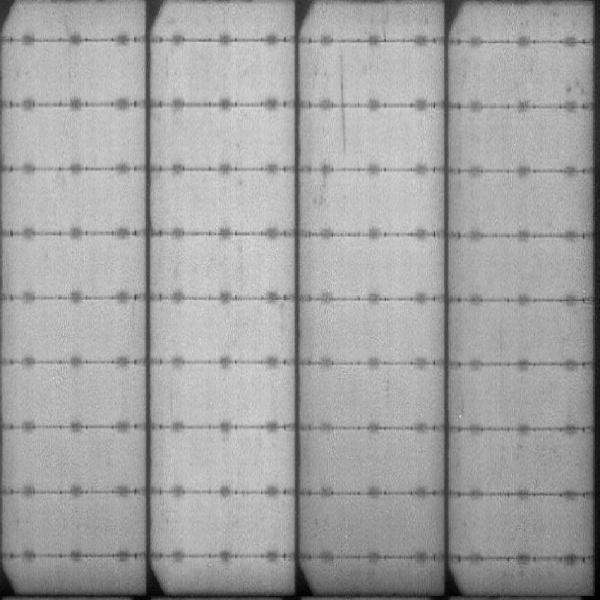scratch: (335, 44, 348, 158)
